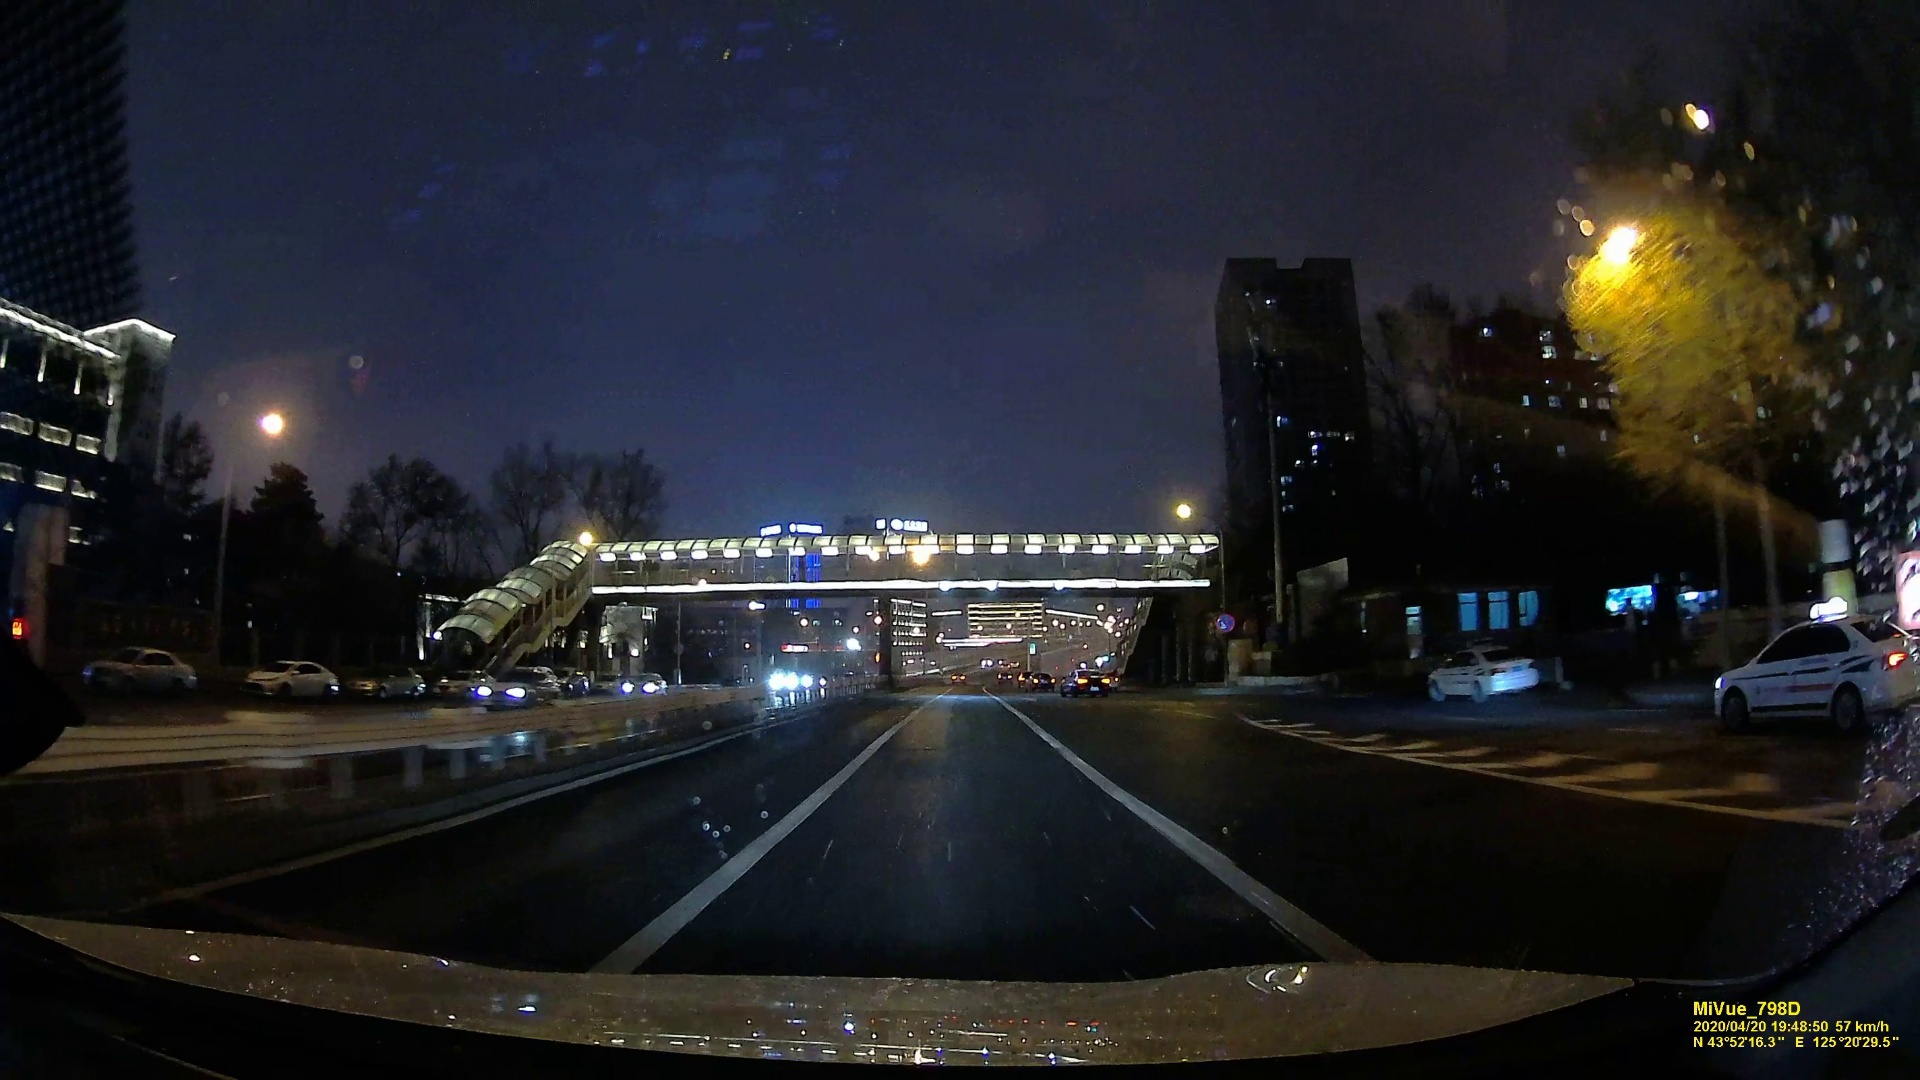traffic_sign: (1680, 98, 1720, 169), (1213, 611, 1236, 636)
vehicle: (1706, 612, 1920, 735), (1425, 640, 1547, 705), (79, 645, 196, 699), (239, 657, 338, 703), (469, 665, 560, 708), (617, 674, 669, 699), (1062, 670, 1109, 694)
